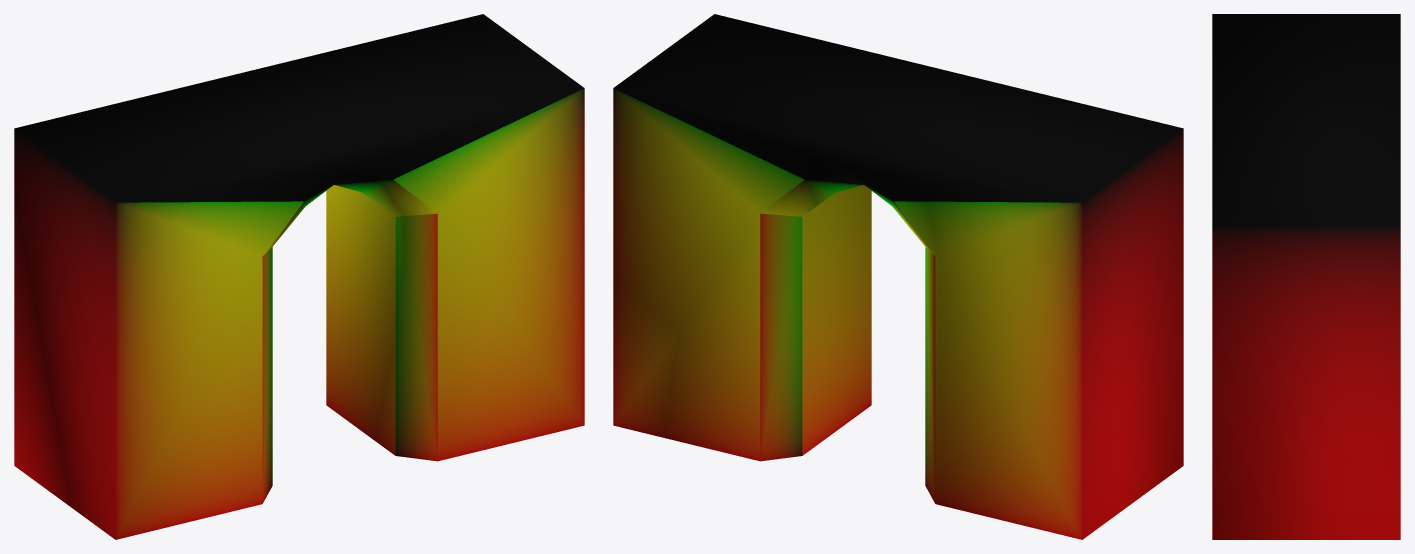
File: A_WallDoorSmall_B_Collider.FBX
3 renders of one model, left to right at view 1: azimuth 30°, elevation 25°; view 2: azimuth 150°, elevation 25°; view 3: azimuth 270°, elevation 25°, orthographic. The views are drawn at different scales.
Parts seen in each view (by area): view 1: A_WallDoorSmall_B_Collider; view 2: A_WallDoorSmall_B_Collider; view 3: A_WallDoorSmall_B_Collider.
Boxes of the visible parts, x1,y1,x2,y2 form: A_WallDoorSmall_B_Collider: [14, 14, 584, 539]; A_WallDoorSmall_B_Collider: [613, 14, 1183, 539]; A_WallDoorSmall_B_Collider: [1212, 14, 1400, 539].
Bounding box in the file's own units: 474 × 326 × 177.
